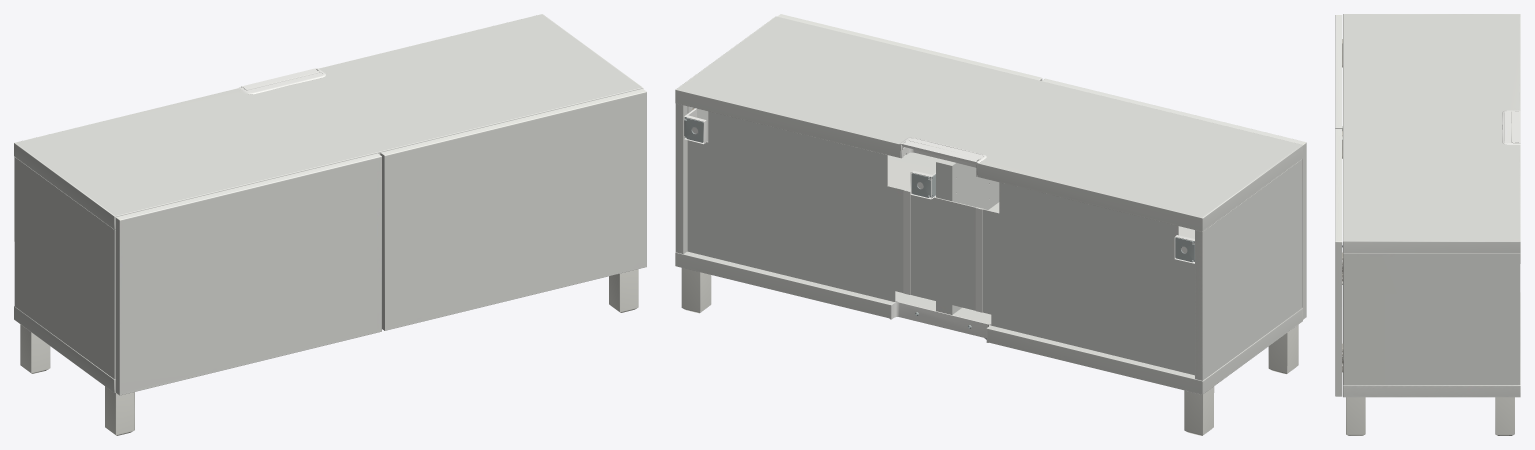
File: besta_awa_tv_z_drzwiami_29419436.glb
3 renders of one model, left to right at view 1: azimuth 30°, elevation 25°; view 2: azimuth 150°, elevation 25°; view 3: azimuth 270°, elevation 25°, orthographic. The views are drawn at different scales.
Visible parts, largest first — view 1: besta_awa_tv_z_drzwiami_29419436; view 2: besta_awa_tv_z_drzwiami_29419436; view 3: besta_awa_tv_z_drzwiami_29419436.
Part boxes in pixels (x1,y1,x2,y2): besta_awa_tv_z_drzwiami_29419436: (14, 14, 646, 435); besta_awa_tv_z_drzwiami_29419436: (675, 14, 1306, 435); besta_awa_tv_z_drzwiami_29419436: (1335, 14, 1520, 435).
Bounding box in the file's own units: 1.2 × 0.4859 × 0.413.
1 material, 1 textured.
